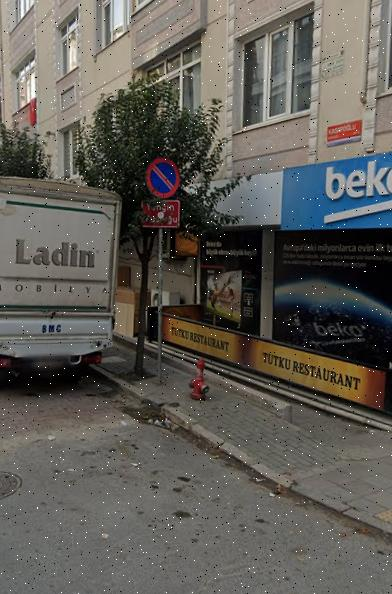nopark: (148, 158, 178, 195)
